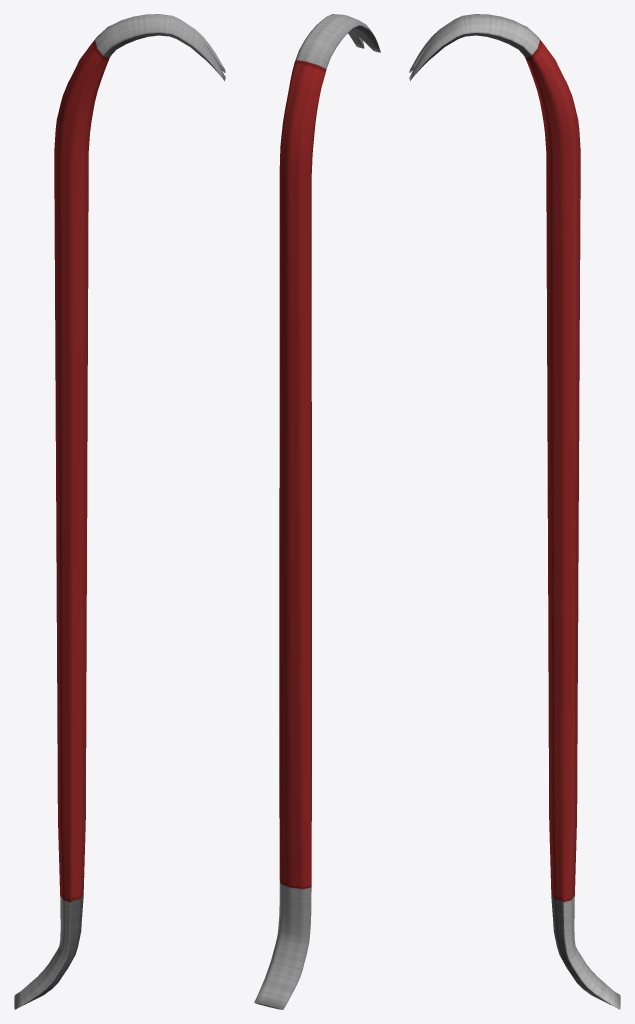
Rendered from 쇠지렛대.fbx.
3 views of the same model, side by side, from view 1: azimuth 90°, elevation 25°; view 2: azimuth 150°, elevation 25°; view 3: azimuth 270°, elevation 25° (orthographic). The views are drawn at different scales.
Visible parts, largest first — view 1: CrowBar; view 2: CrowBar; view 3: CrowBar.
Part boxes in pixels (x1,y1,x2,y2): CrowBar: (14, 14, 225, 1009); CrowBar: (254, 14, 380, 1009); CrowBar: (409, 14, 620, 1009).
Bounding box in the file's own units: 2.57 × 71.18 × 13.83.
